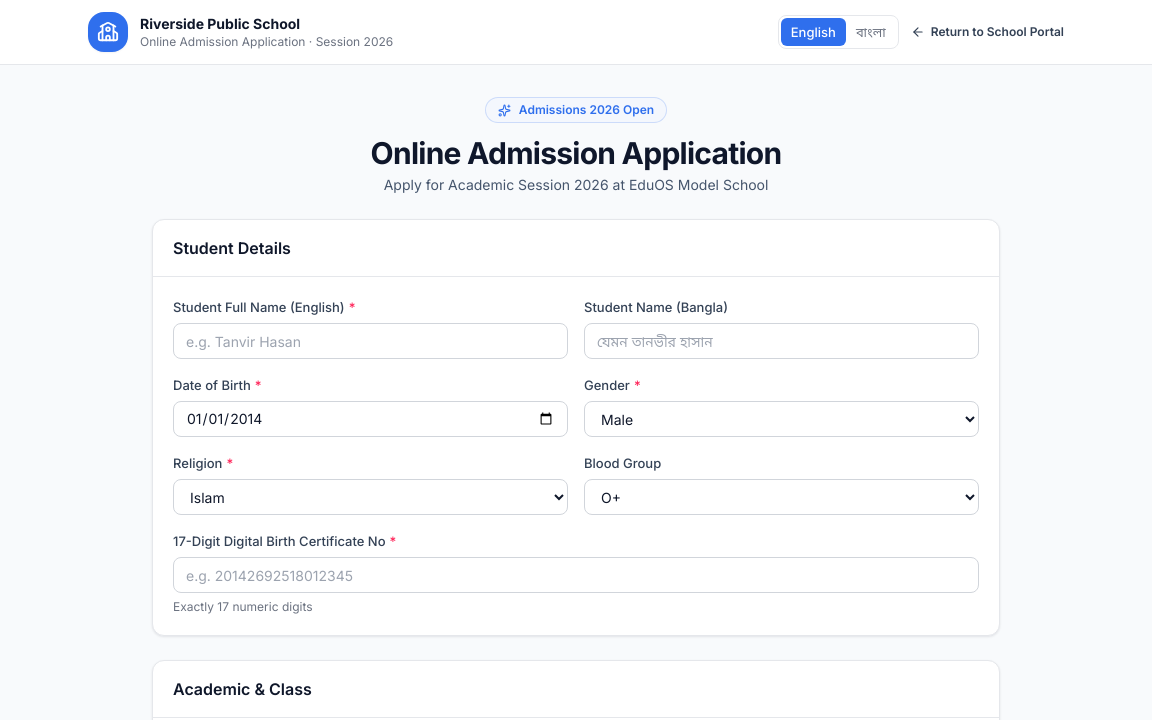
it: AdmissionPortal Component (Phase 11: Public Online Application Portal) › submits valid admission application and transitions to confirmation receipt view
Type "Kazi Naimul Islam" into the field labelled "Student Full Name (English)*" at (370, 341), box [173,323,568,359]
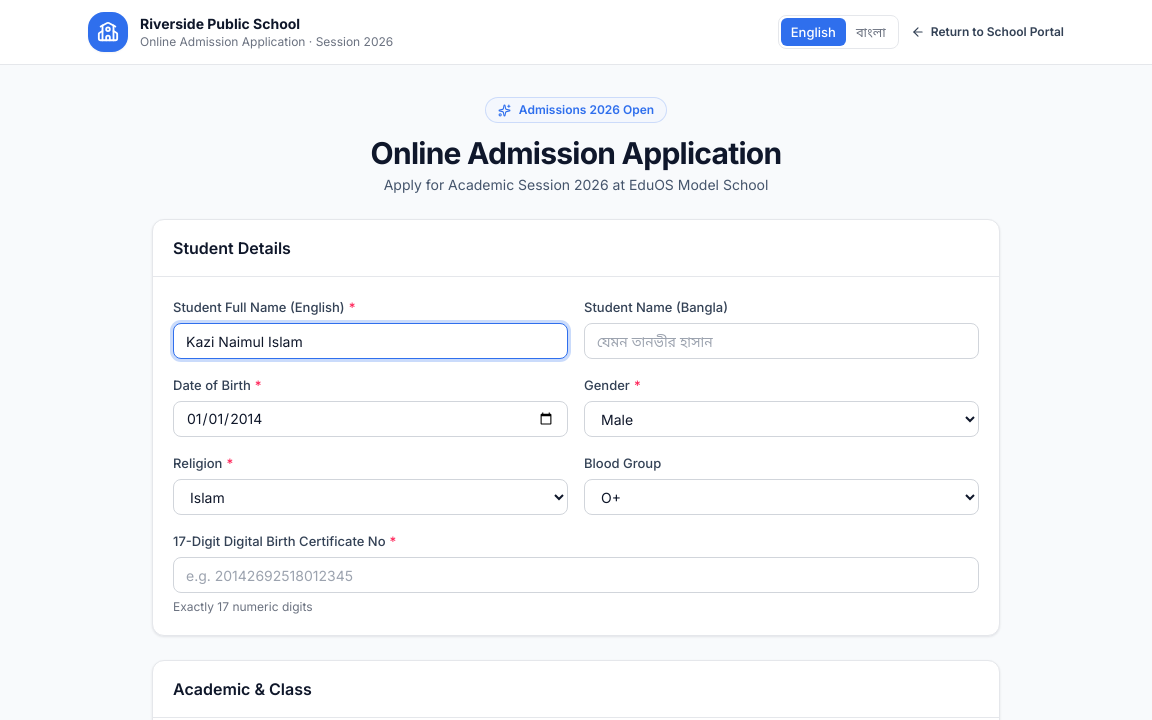
Type "20142692518012345" into the field labelled "17-Digit Digital Birth Certificate No" at (576, 575), box [173,557,979,593]
(page scrolled)
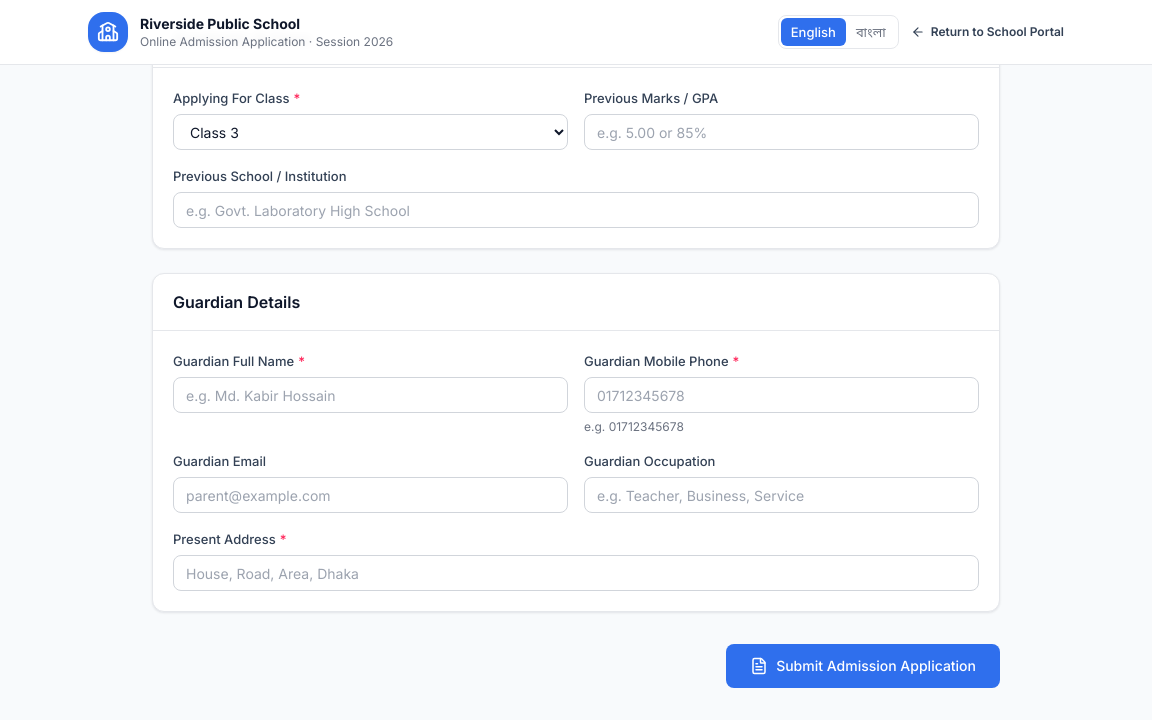
Type "Kazi Shafiqul Islam" into the field labelled "Guardian Full Name*" at (370, 395), box [173,377,568,413]
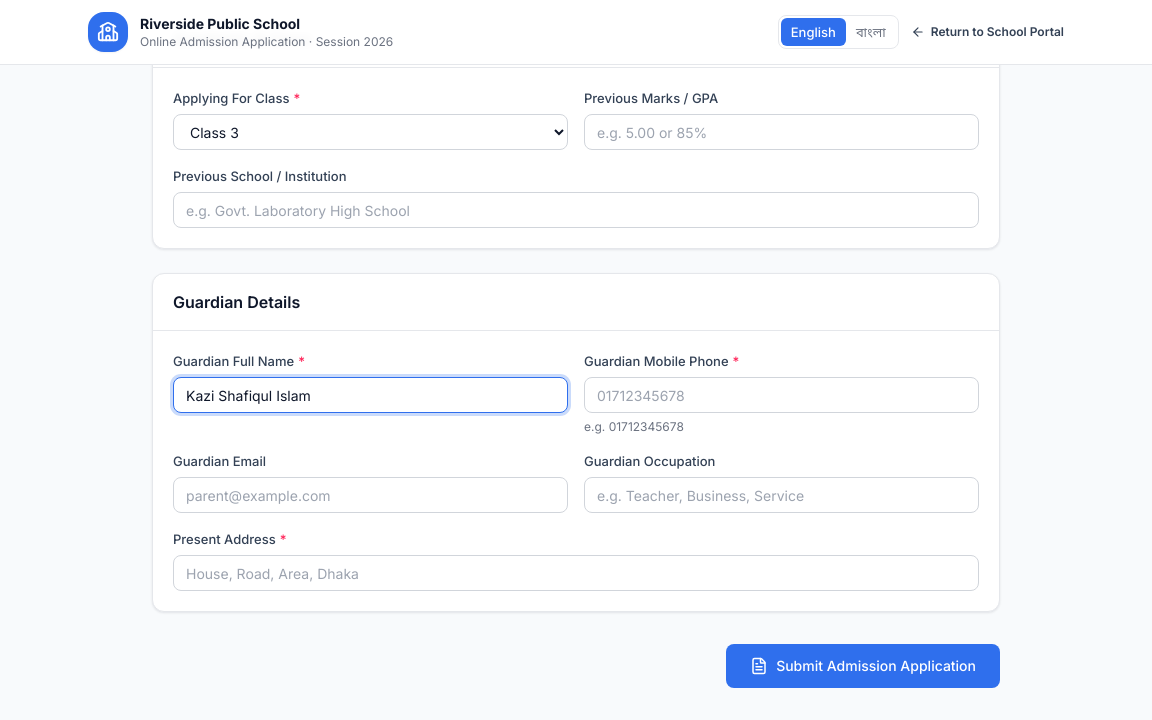
Type "01819556677" into the field labelled "Guardian Mobile Phone* e.g. 01712345678" at (782, 395), box [584,377,979,413]
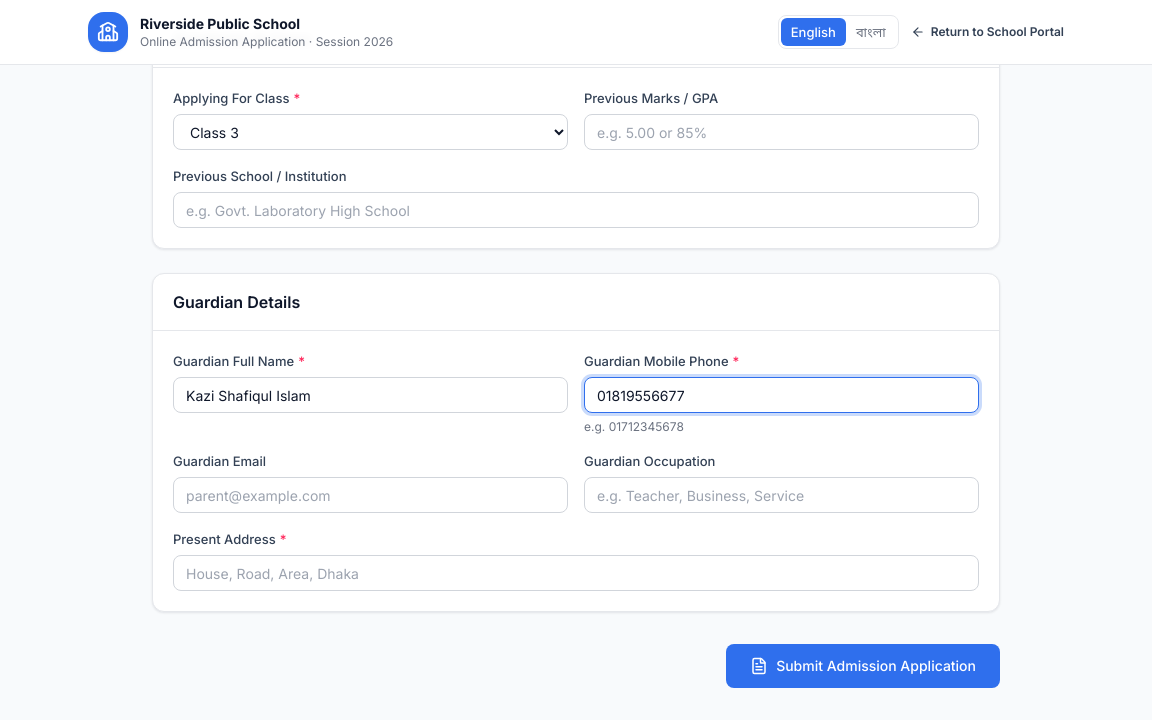
Type "Dhanmondi, Dhaka" into the field labelled "Present Address*" at (576, 573), box [173,555,979,591]
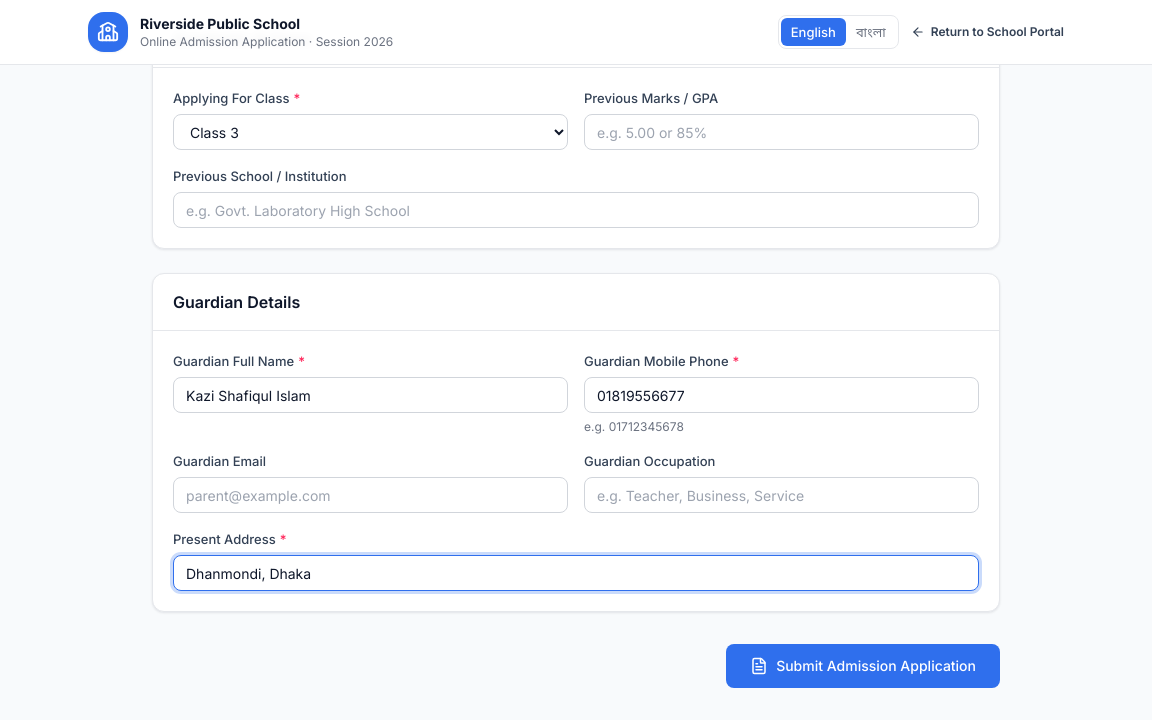
Click the button "Submit Admission Application" at (863, 666), box [726,644,1000,688]
(page scrolled)
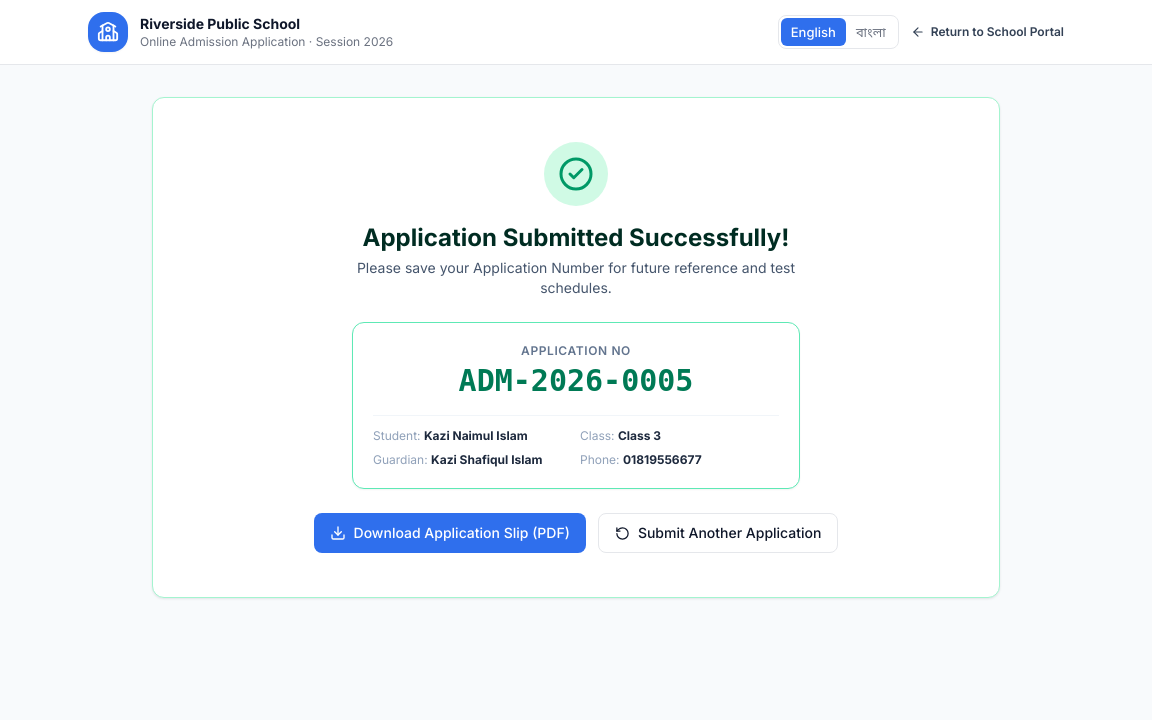
Check: the heading "Application Submitted Successfully!" is shown, box [362,222,789,254]
Check: the text "ADM-2026-0005" is shown, box [459,363,693,398]
Check: the text "Kazi Naimul Islam" is shown, box [424,428,528,443]
